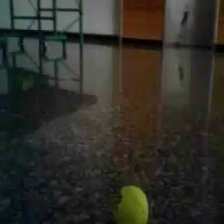tennis: (113, 186, 148, 224)
